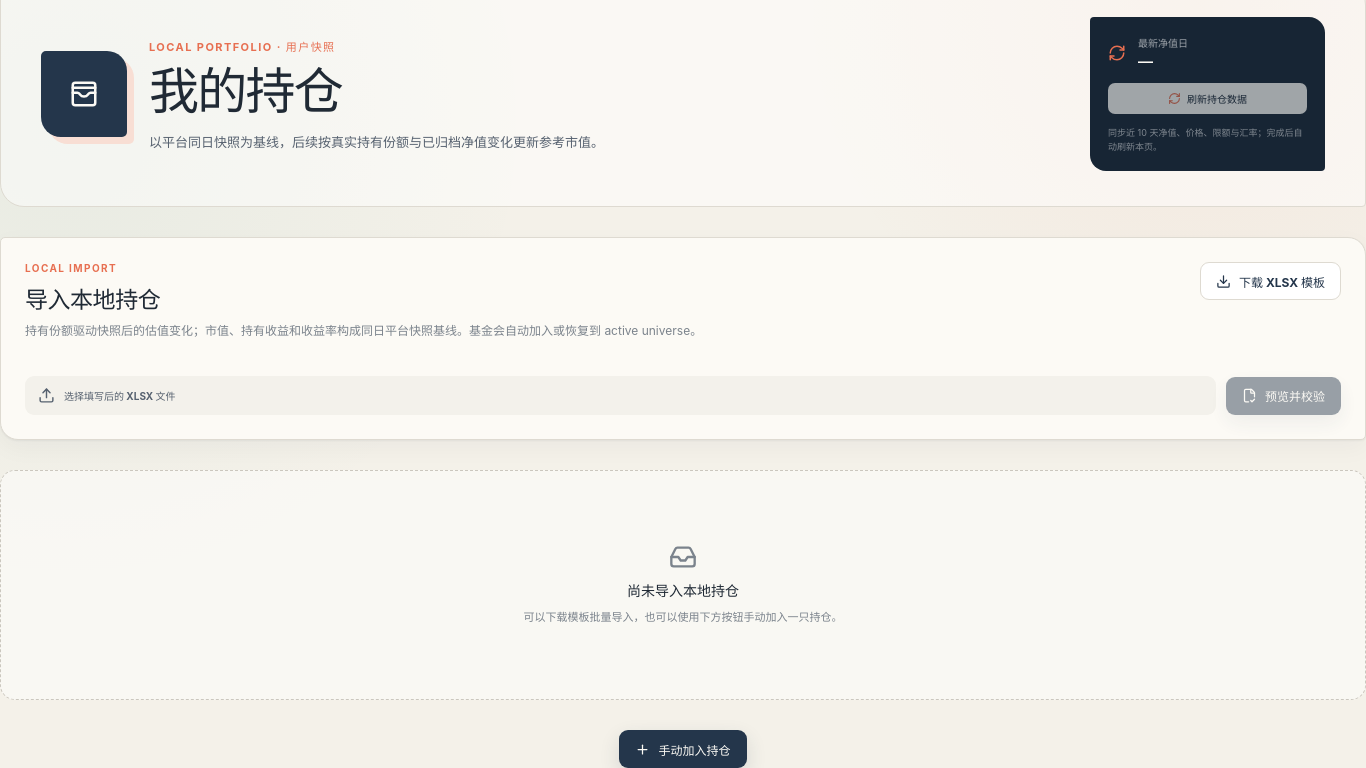
Test case: PortfolioPage › adds one position from the manual dialog and keeps sourced fields out of the form
(page scrolled)
Expected: the text "尚未导入本地持仓" is shown, [627, 580, 739, 600]
Click the button "手动加入持仓" at (683, 749), box [620, 730, 746, 767]
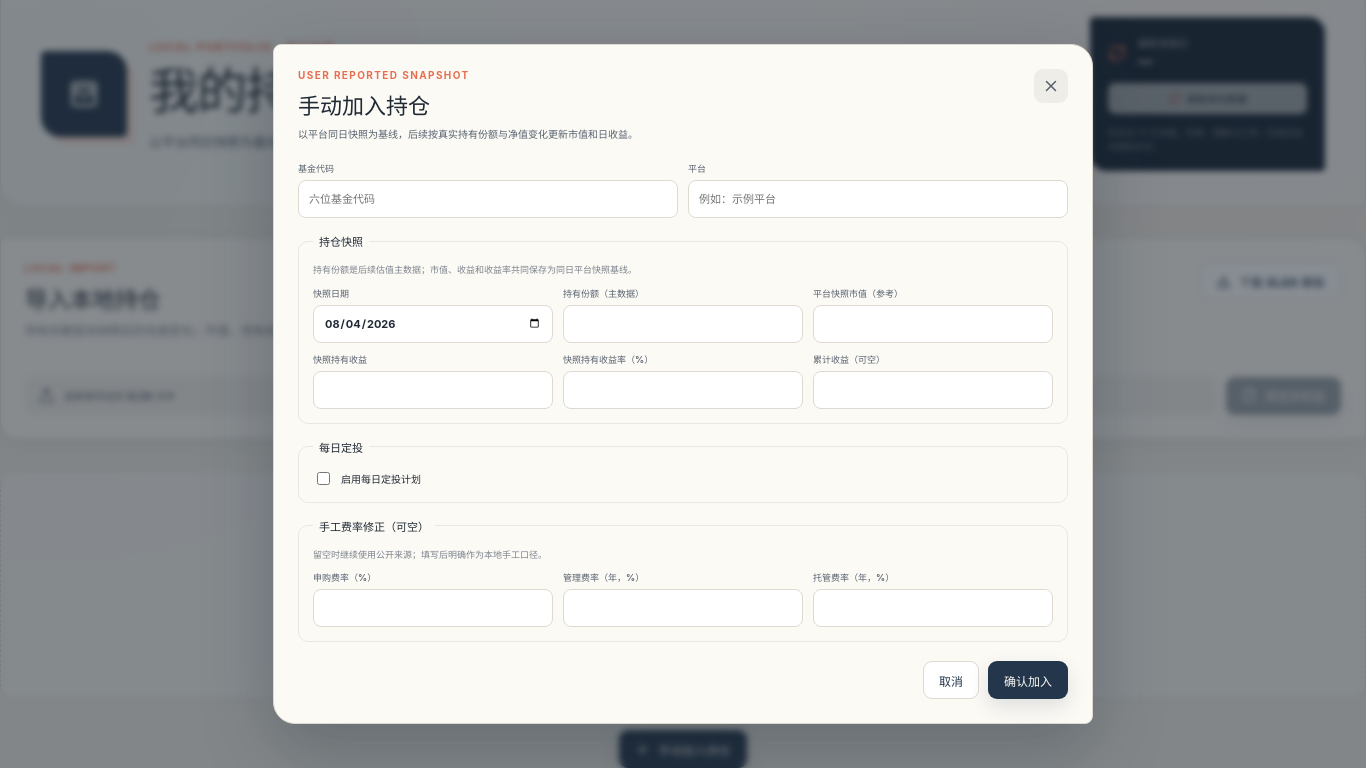
Now the dialog "手动加入持仓" is shown, box [273, 44, 1093, 724]
Type "006373" into the field labelled "基金代码" at (488, 199), box [298, 180, 678, 218]
Type "测试平台" into the field labelled "平台" at (878, 199), box [688, 180, 1068, 218]
Type "8000" into the number field labelled "持有份额（主数据）" at (683, 324), box [563, 304, 803, 342]
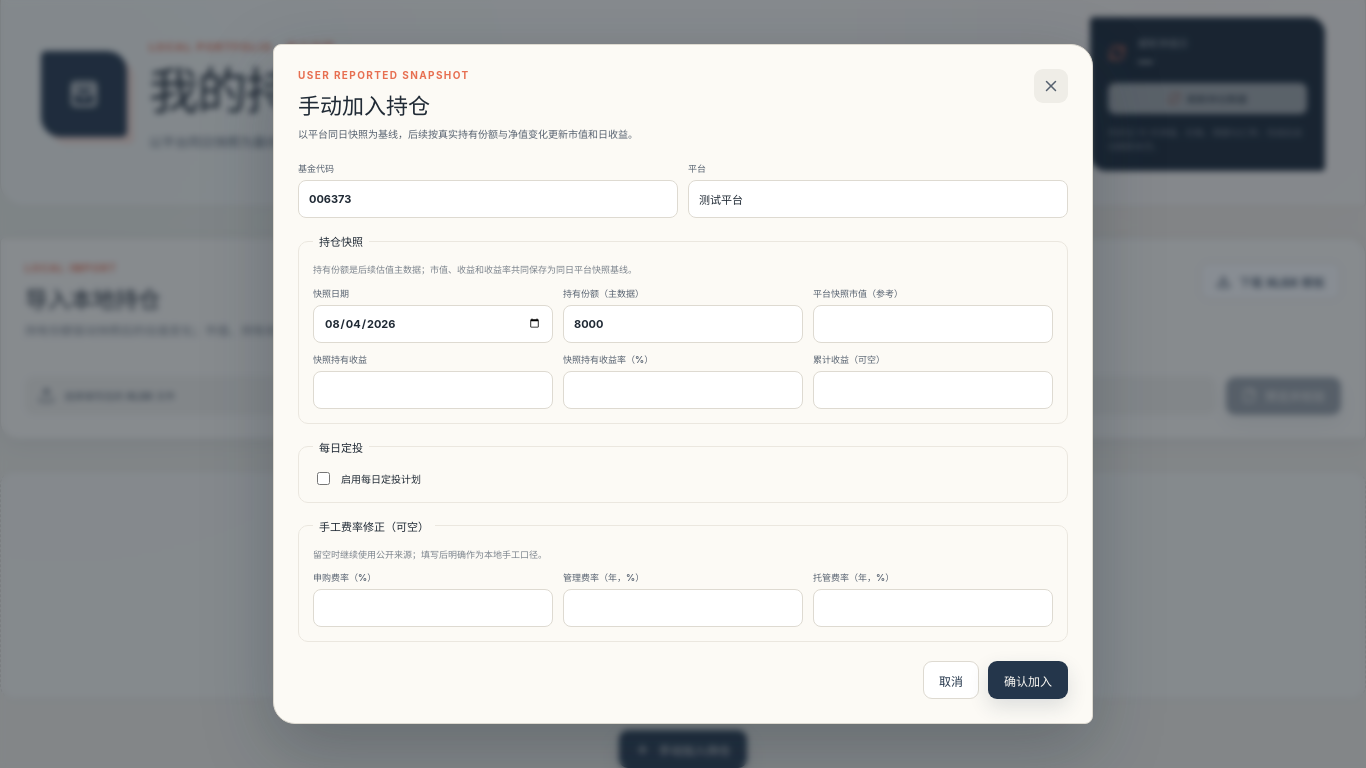
Type "10000" into the number field labelled "平台快照市值（参考）" at (933, 324), box [813, 304, 1053, 342]
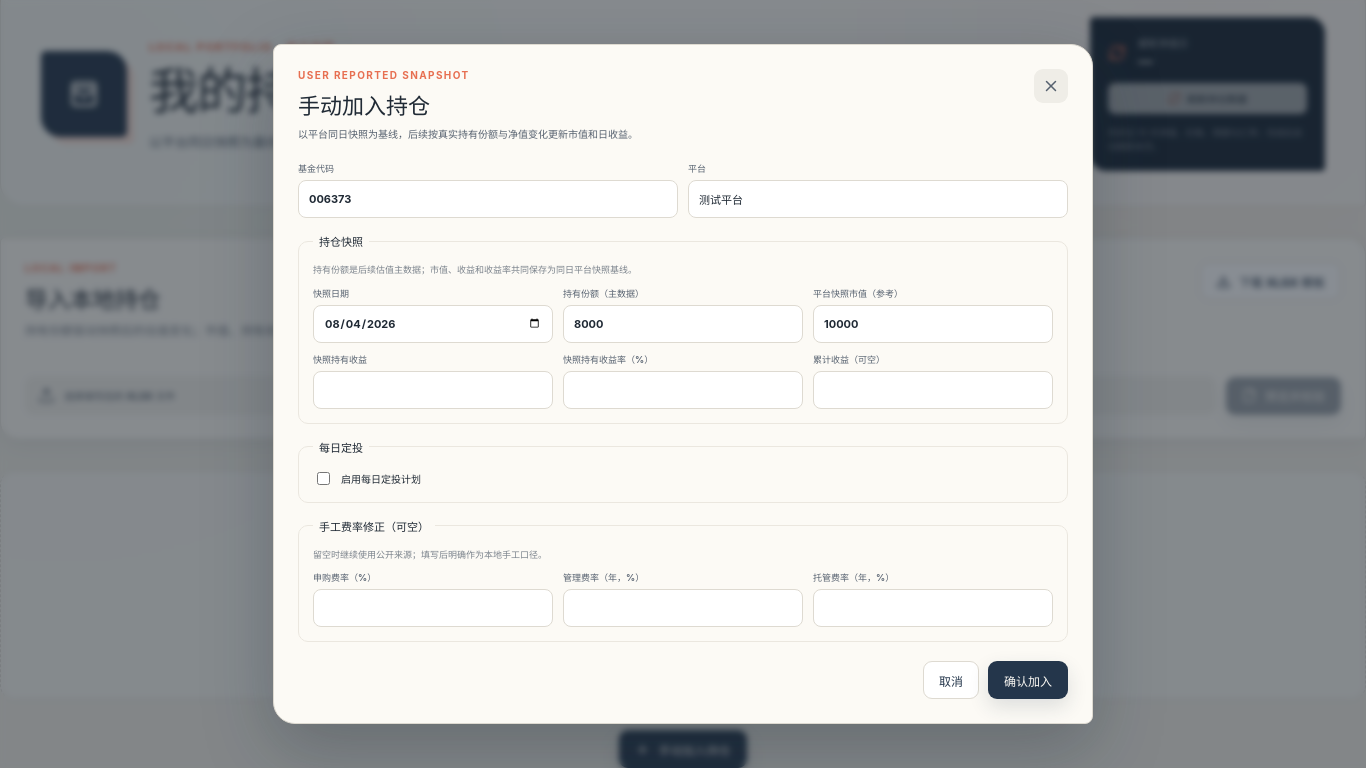
Type "500" into the number field labelled "快照持有收益" at (433, 390), box [313, 370, 553, 408]
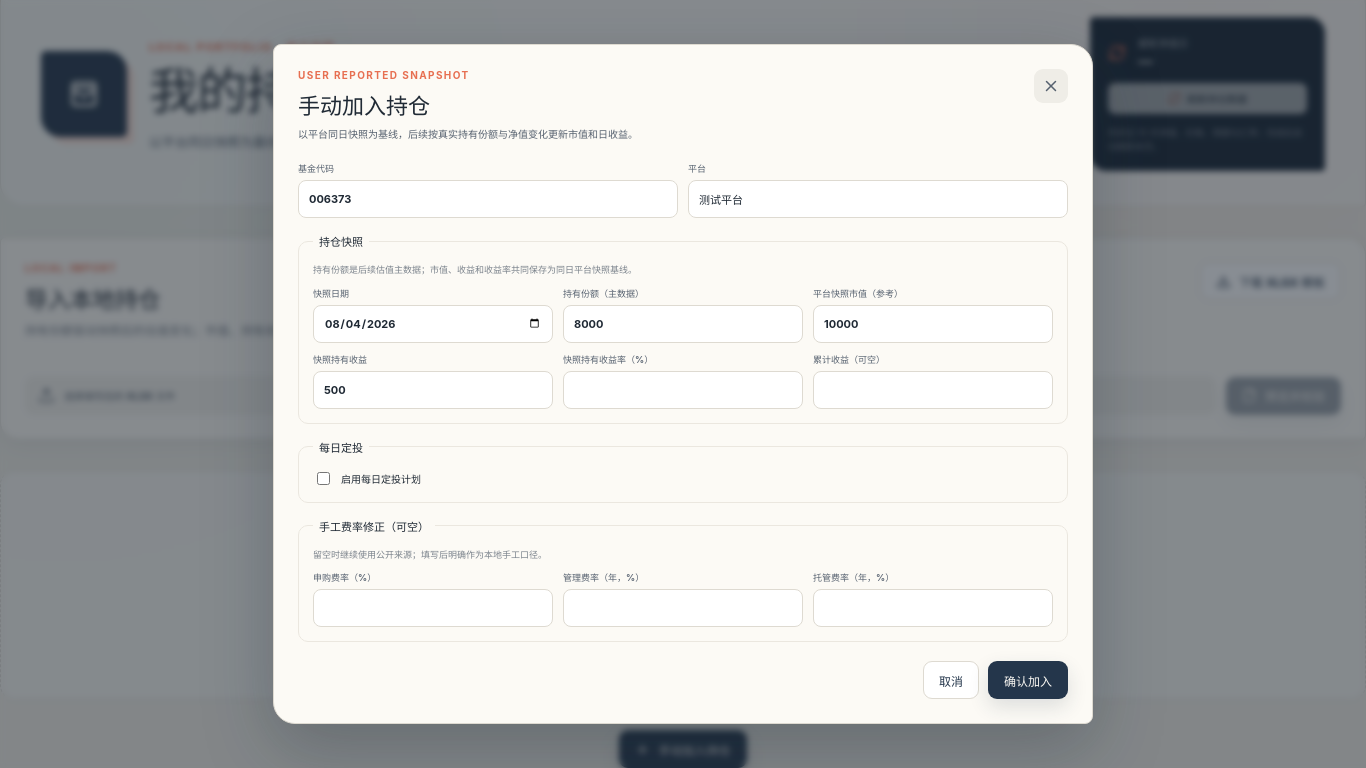
Type "5" into the number field labelled "快照持有收益率（%）" at (683, 390), box [563, 370, 803, 408]
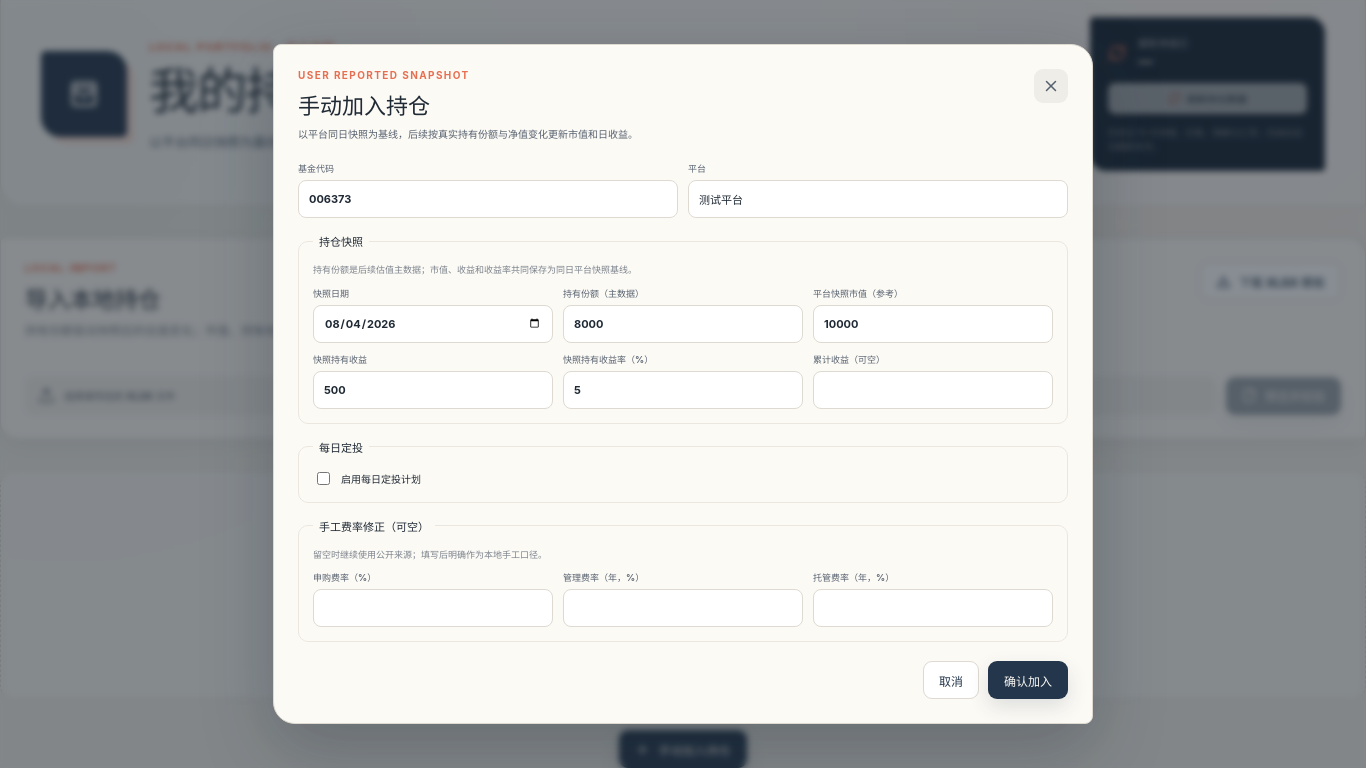
Click the button "确认加入" at (1028, 680), box [988, 661, 1068, 699]
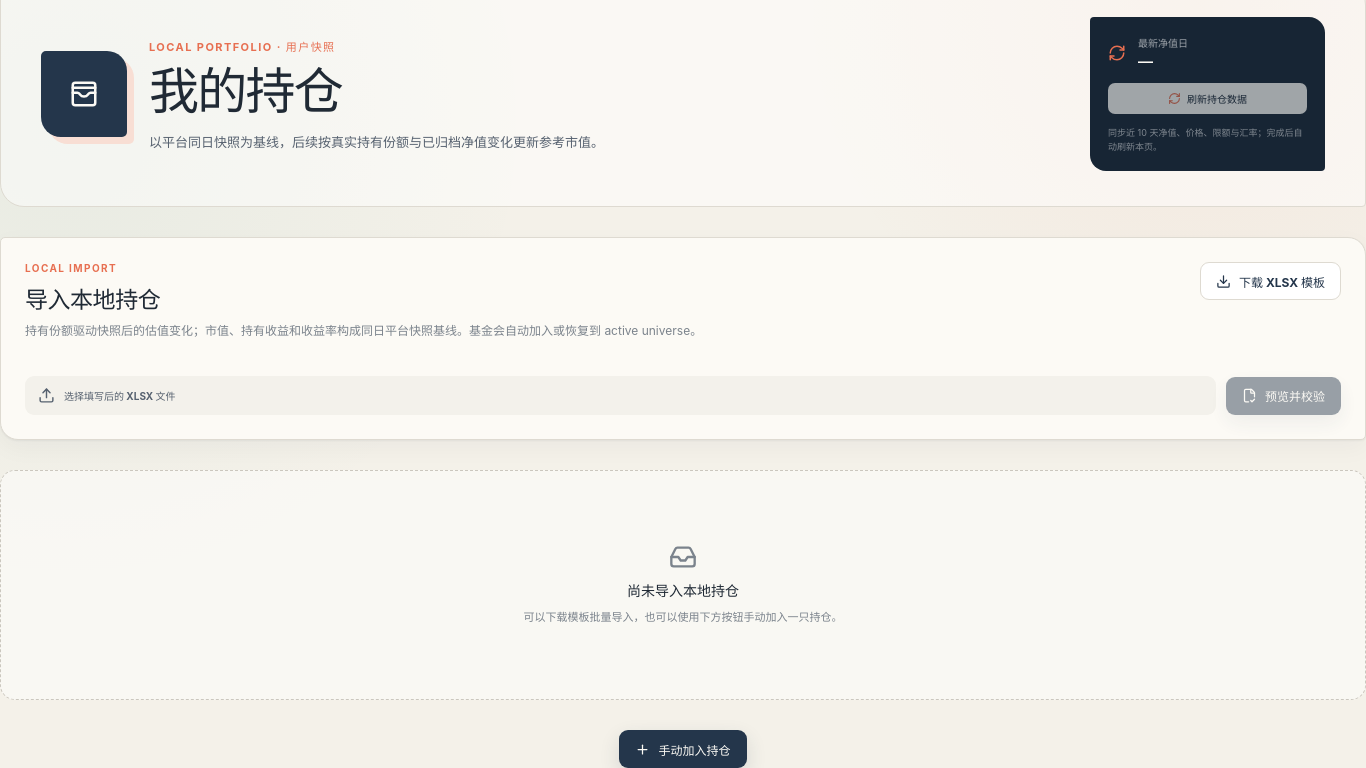
Now the dialog is gone
